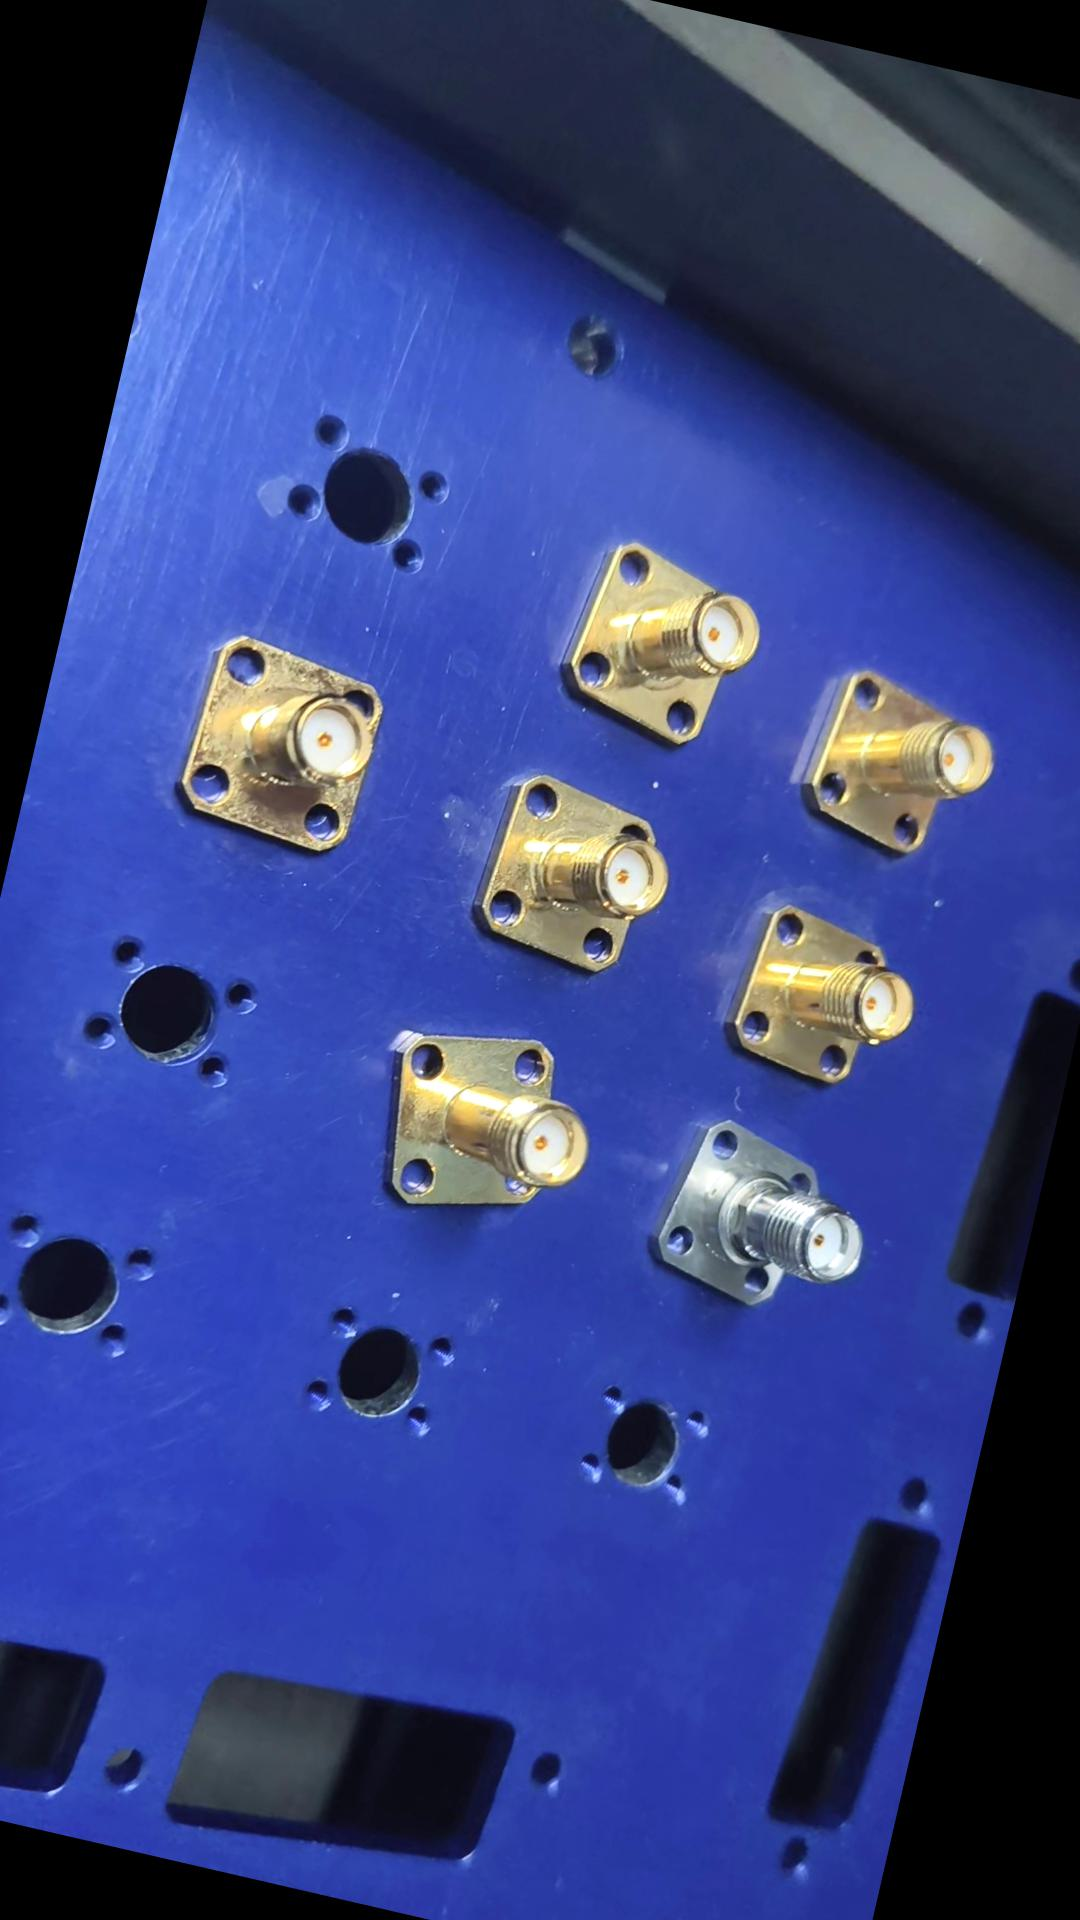SMA: (352, 1004, 612, 1249), (537, 526, 770, 760), (161, 624, 393, 858), (454, 761, 684, 986), (638, 1108, 881, 1321), (781, 661, 1004, 876), (709, 895, 927, 1096)
